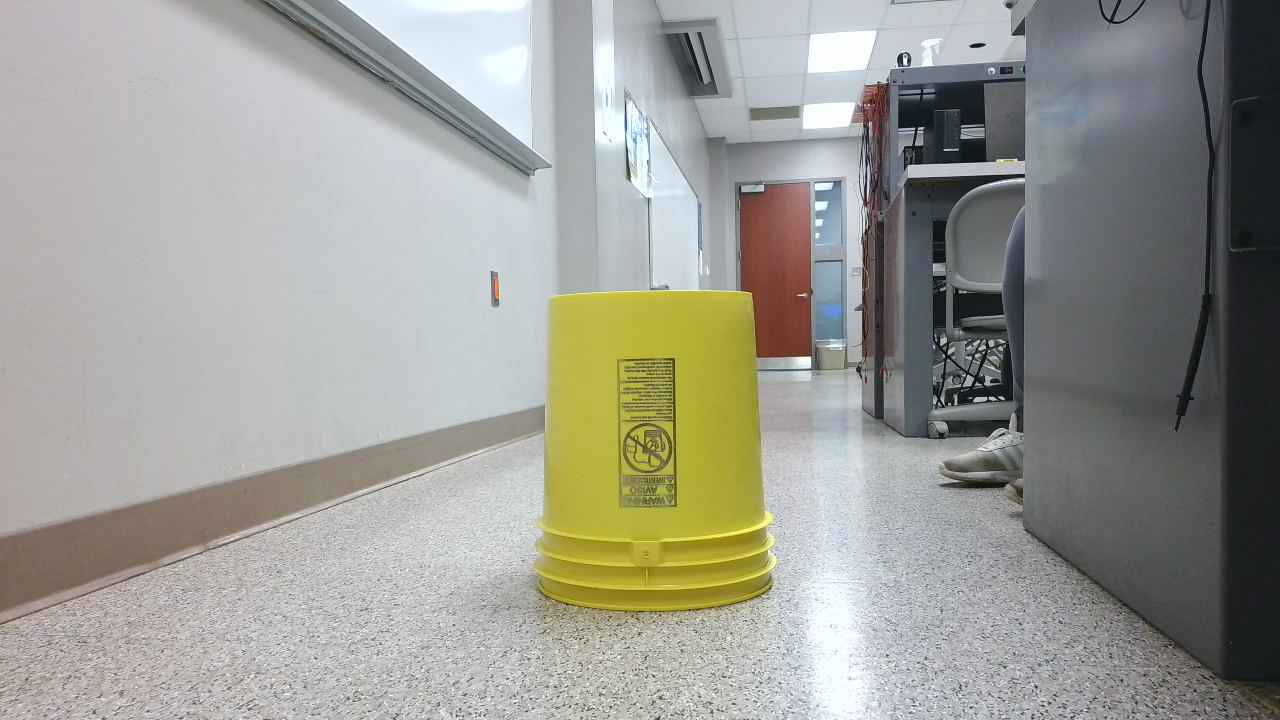yellow_bucket: (531, 291, 788, 621)
